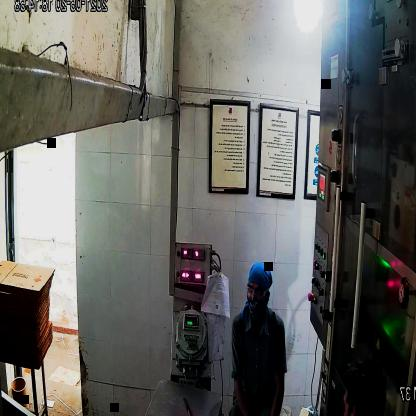goggles: (244, 281, 273, 306)
